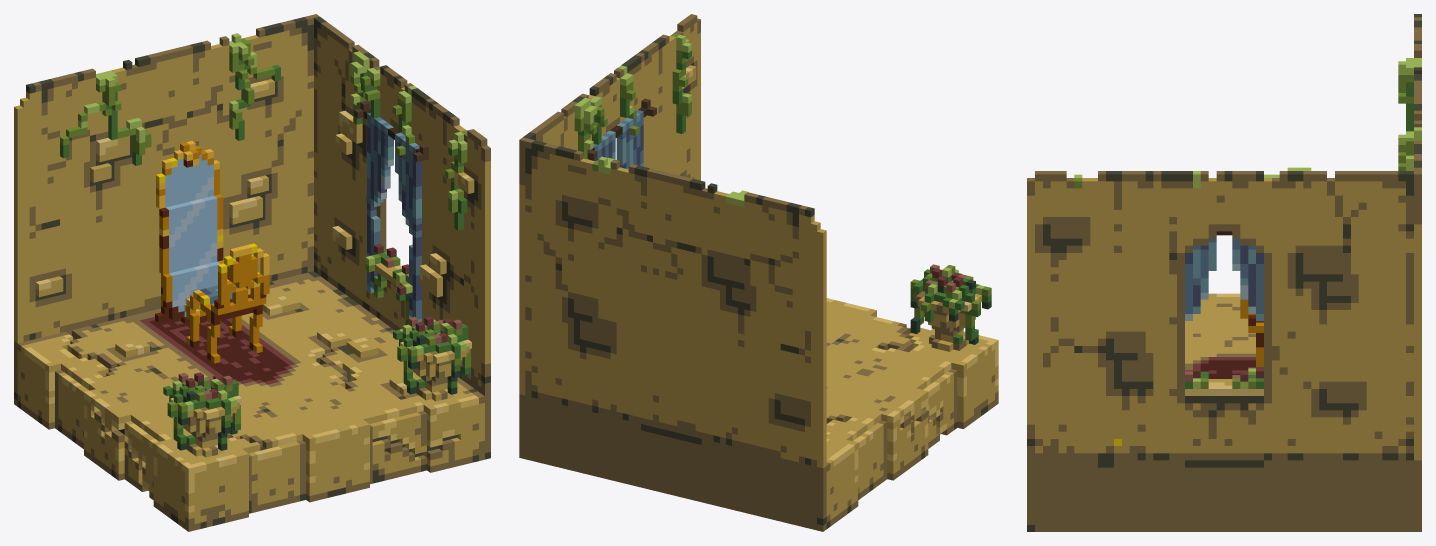
File: Princess Chamber.obj
3 views of the same model, side by side, from view 1: azimuth 30°, elevation 25°; view 2: azimuth 150°, elevation 25°; view 3: azimuth 270°, elevation 25° (orthographic). The views are drawn at different scales.
Bounding box in the file's own units: 5 × 5 × 5.
